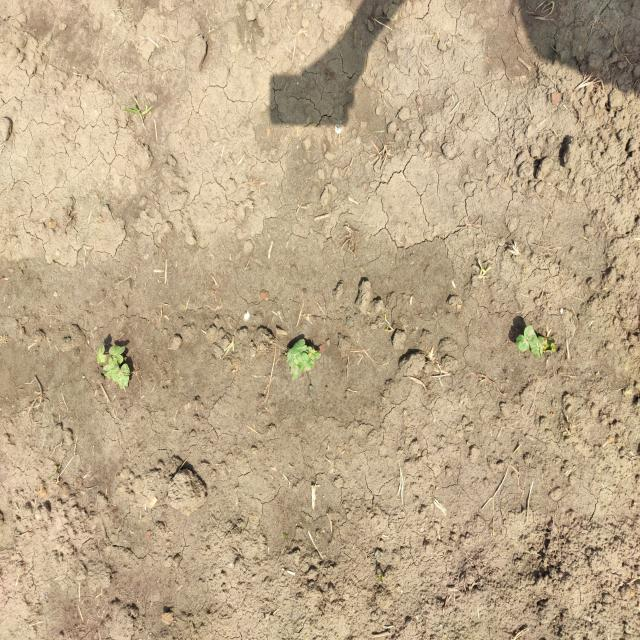seedling_s1: (524, 326, 537, 346), (516, 335, 530, 352), (291, 339, 305, 355), (530, 338, 541, 358), (120, 364, 130, 385), (301, 352, 314, 367), (289, 361, 301, 375), (297, 359, 311, 371), (108, 357, 119, 371), (112, 366, 121, 383), (109, 346, 125, 355), (546, 337, 555, 352), (306, 347, 314, 362), (103, 365, 112, 378), (292, 352, 301, 365), (537, 336, 543, 355), (111, 355, 123, 364), (312, 347, 321, 359), (286, 349, 293, 364), (290, 367, 298, 379), (97, 354, 107, 363), (300, 345, 308, 355), (96, 345, 104, 354)
